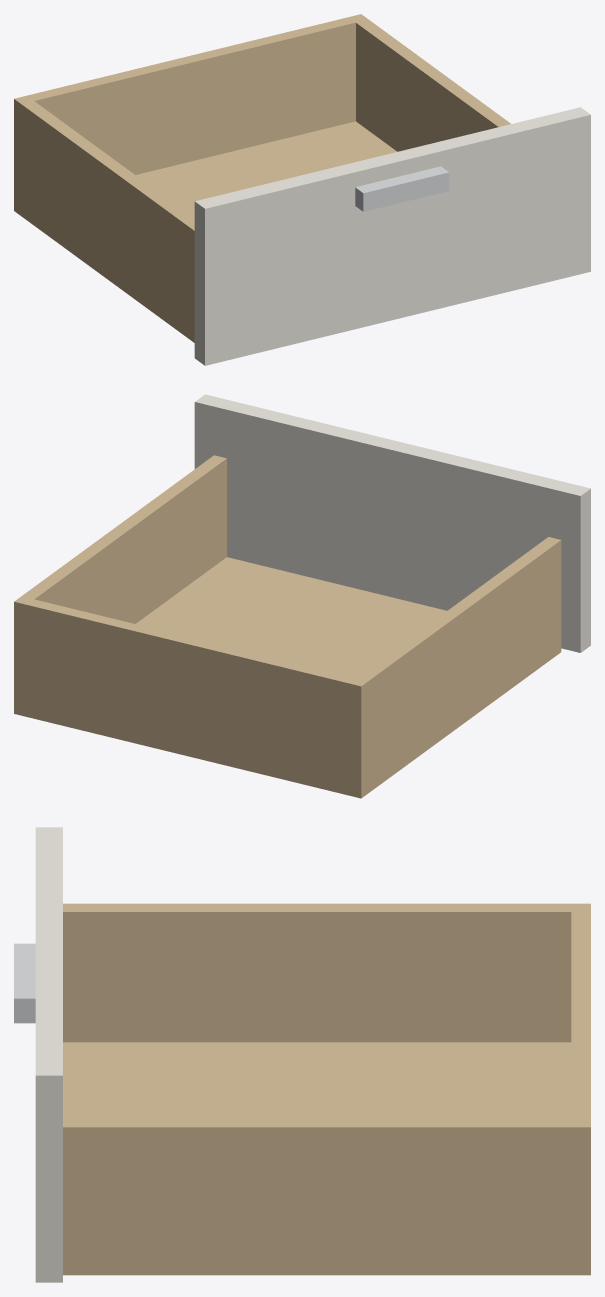
Rendered from junk-drawer.gltf.
3 views of the same model, one above another, from view 1: azimuth 30°, elevation 25°; view 2: azimuth 150°, elevation 25°; view 3: azimuth 270°, elevation 25° (orthographic). The views are drawn at different scales.
Parts seen in each view (by area): view 1: front, box_back, box_side_l, box_bottom, box_side_r, pull; view 2: front, box_back, box_bottom, box_side_l, box_side_r; view 3: box_side_r, box_side_l, box_bottom, front, box_back, pull.
Boxes of the visible parts, left/top/right/bottom form: front: left=194, top=107, right=590, bottom=365; box_back: left=27, top=17, right=355, bottom=174; box_side_l: left=14, top=95, right=194, bottom=341; box_bottom: left=14, top=121, right=397, bottom=342; box_side_r: left=349, top=14, right=510, bottom=151; pull: left=355, top=166, right=449, bottom=211; front: left=194, top=394, right=590, bottom=652; box_back: left=27, top=599, right=355, bottom=794; box_bottom: left=14, top=557, right=561, bottom=798; box_side_l: left=348, top=537, right=561, bottom=798; box_side_r: left=14, top=455, right=226, bottom=716; box_side_r: left=63, top=1119, right=590, bottom=1275; box_side_l: left=63, top=903, right=590, bottom=1042; box_bottom: left=63, top=1042, right=590, bottom=1275; front: left=35, top=827, right=62, bottom=1282; box_back: left=571, top=912, right=590, bottom=1118; pull: left=14, top=943, right=35, bottom=1023.
Bounding box in the file's own units: 0.0337 × 0.0134 × 0.0331.
